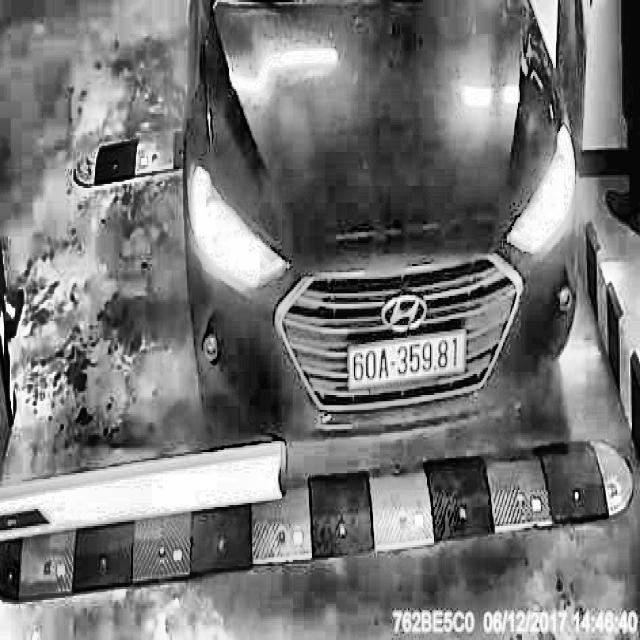plate: (343, 324, 470, 397)
